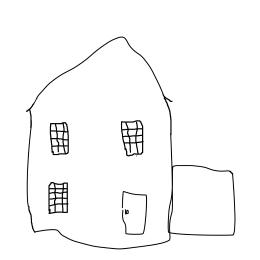closed_window: (117, 112, 152, 161), (46, 115, 71, 162), (45, 172, 71, 217)
door: (112, 179, 154, 253)
single_line_roof: (24, 30, 183, 115), (163, 162, 244, 187)
wall: (22, 118, 178, 251), (162, 159, 237, 239)
